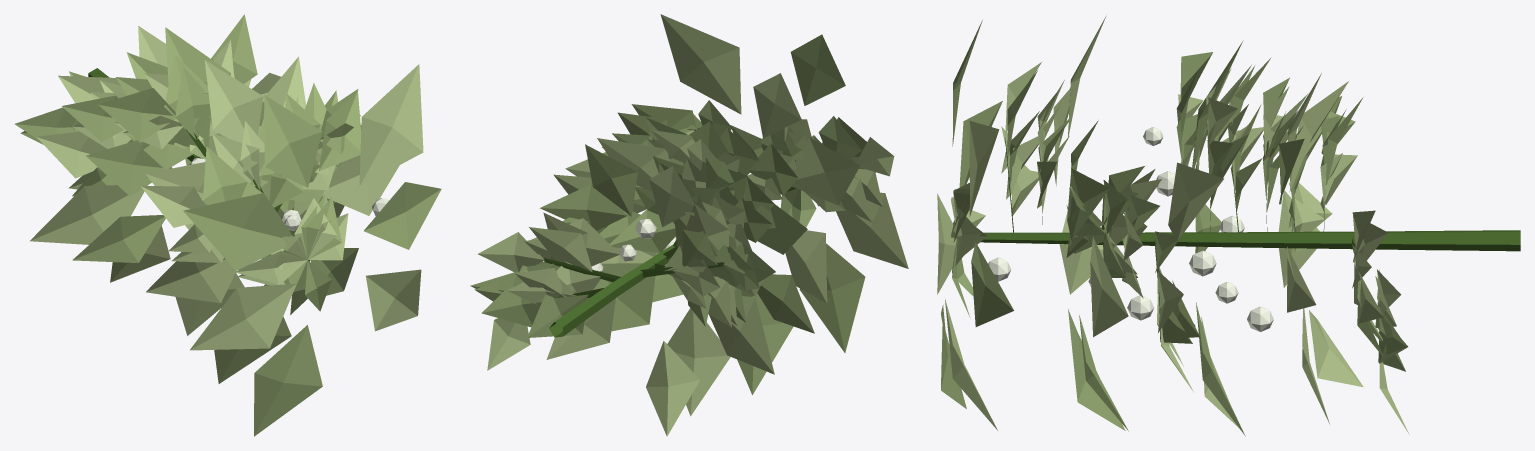
The model's file is infested_1.obj.
3 views of the same model, side by side, from view 1: azimuth 30°, elevation 25°; view 2: azimuth 150°, elevation 25°; view 3: azimuth 270°, elevation 25° (orthographic). The views are drawn at different scales.
Size of the model in its own units: 0.6047 by 0.63 by 0.8219.
